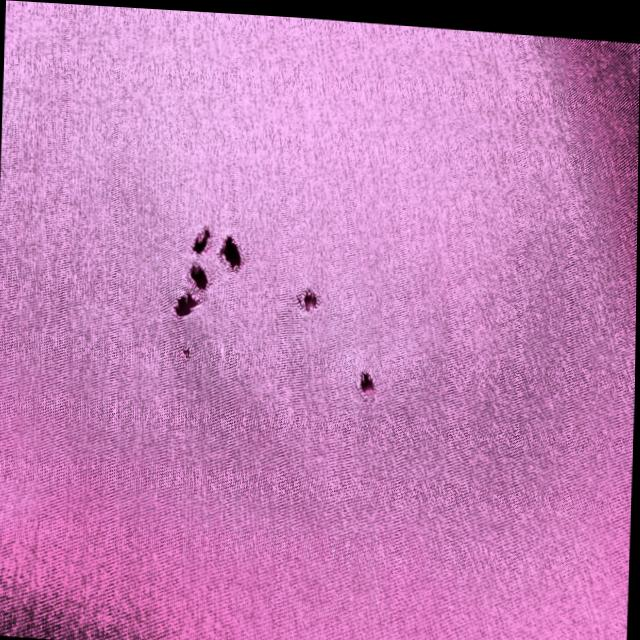Hole: (213, 221, 253, 281), (349, 361, 386, 406), (291, 275, 326, 316), (184, 214, 214, 257), (168, 288, 203, 324), (185, 257, 212, 292), (180, 337, 193, 365)
